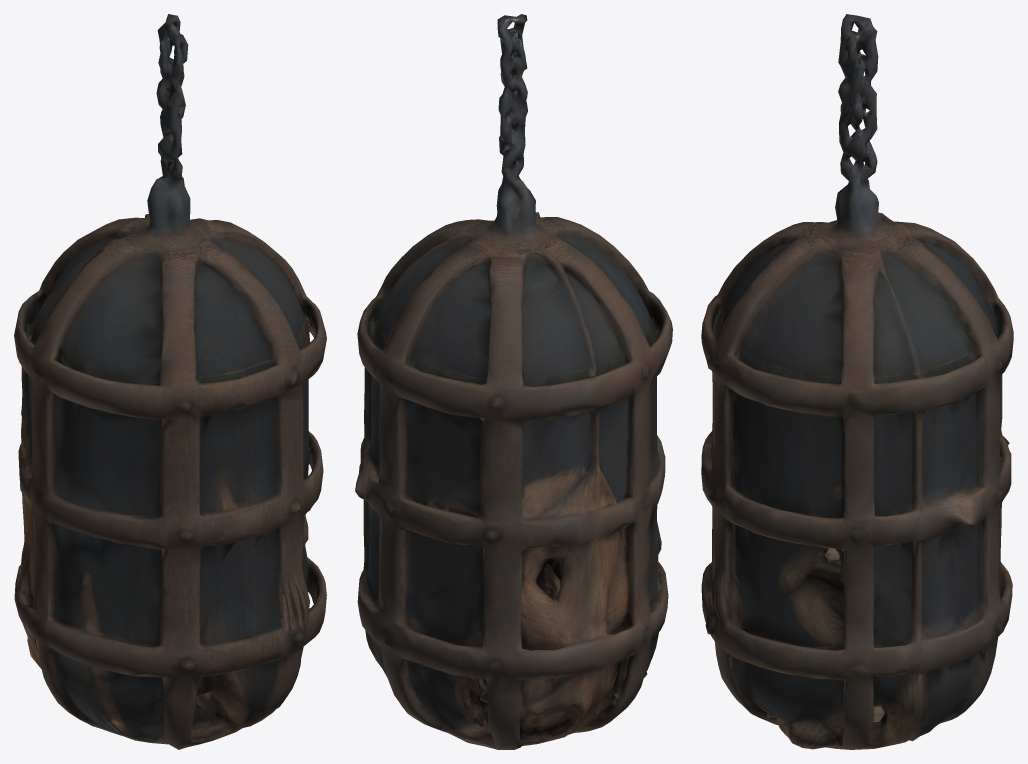
Rendered from hanging_cage_skeleton.glb.
The picture shows the model from 3 angles, left to right: view 1: azimuth 30°, elevation 25°; view 2: azimuth 150°, elevation 25°; view 3: azimuth 270°, elevation 25°; orthographic projection.
Size of the model in its own units: 0.8237 by 2 by 0.8095.
1 material, 1 textured.
